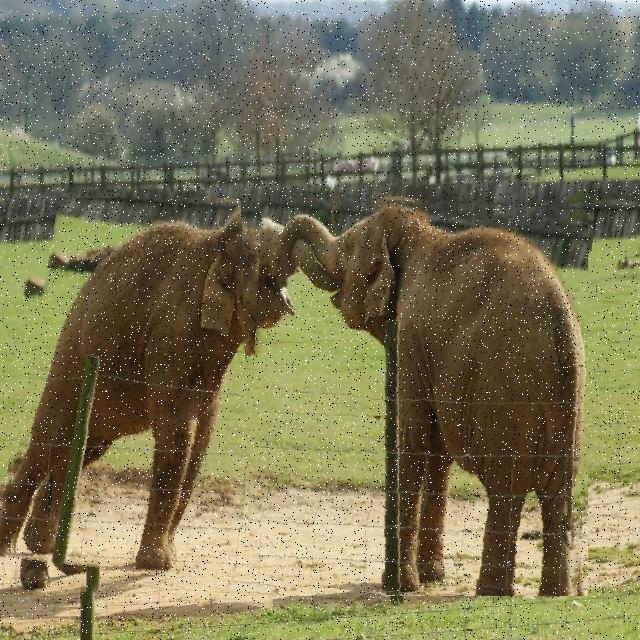elephant: (241, 192, 588, 596), (7, 198, 327, 597)
